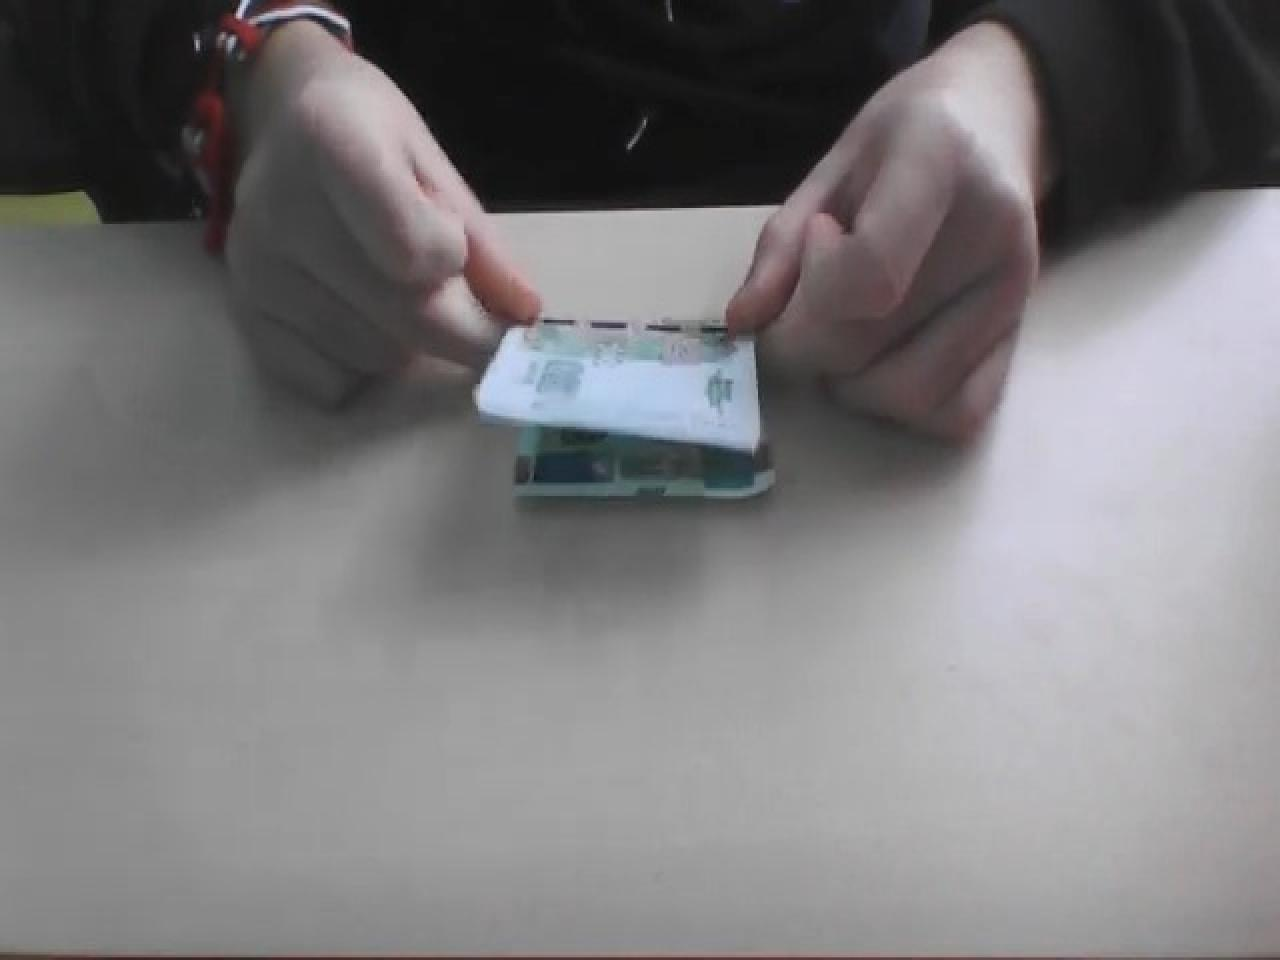100leva: (474, 313, 778, 507)
